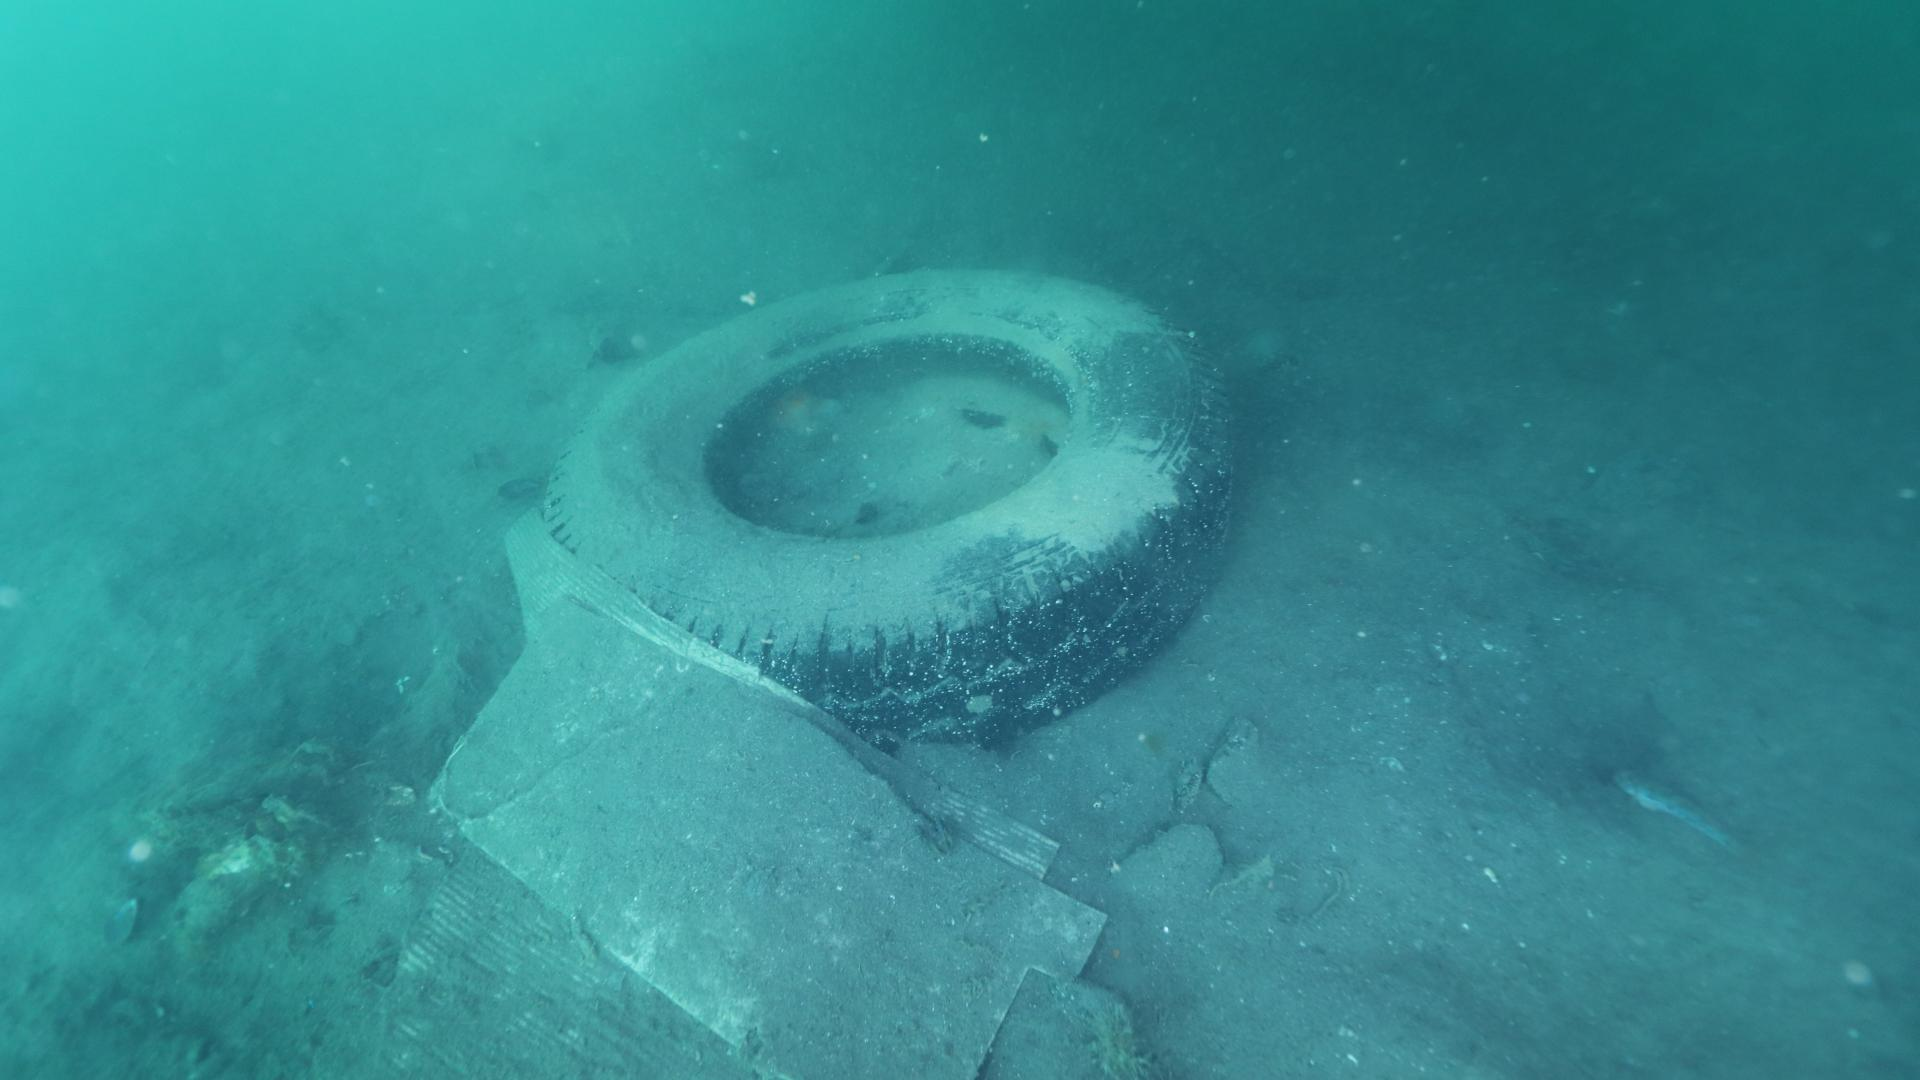tire: (551, 262, 1233, 742)
